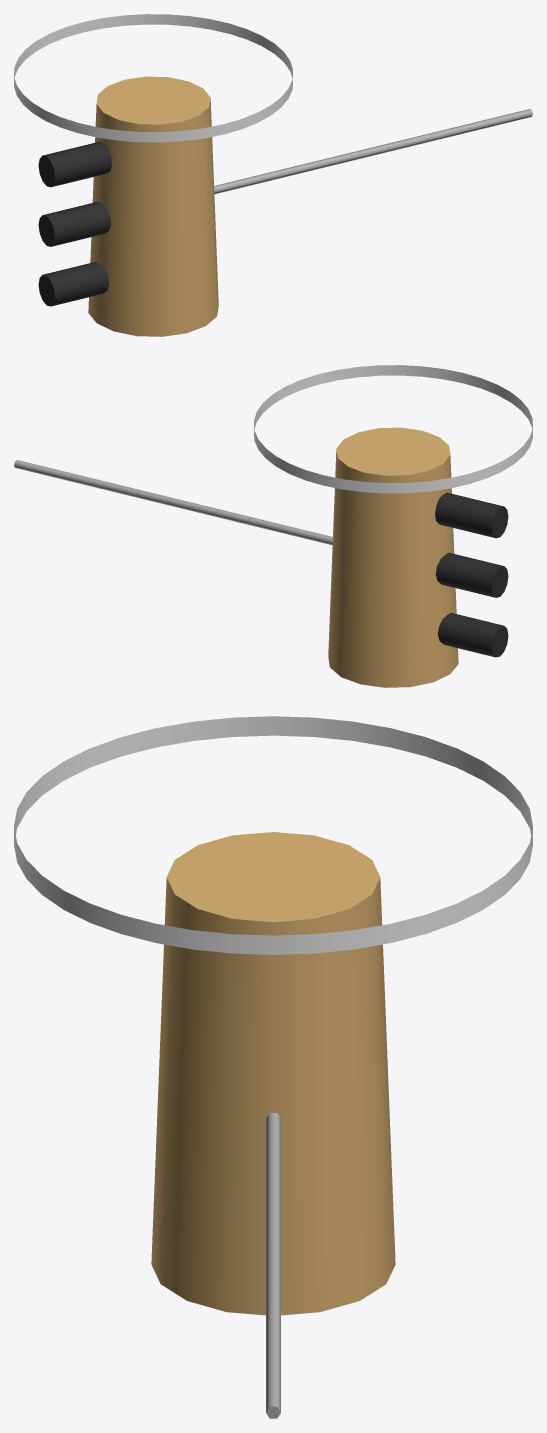
The model's file is cassini.glb.
3 views of the same model, one above another, from view 1: azimuth 30°, elevation 25°; view 2: azimuth 150°, elevation 25°; view 3: azimuth 270°, elevation 25° (orthographic). The views are drawn at different scales.
Parts seen in each view (by area): view 1: cassini; view 2: cassini; view 3: cassini.
Part boxes in pixels (x1,y1,x2,y2): cassini: (14,14,532,336); cassini: (14,365,532,687); cassini: (14,716,532,1418).
Bounding box in the file's own units: 3.5 × 1.58 × 1.7.
